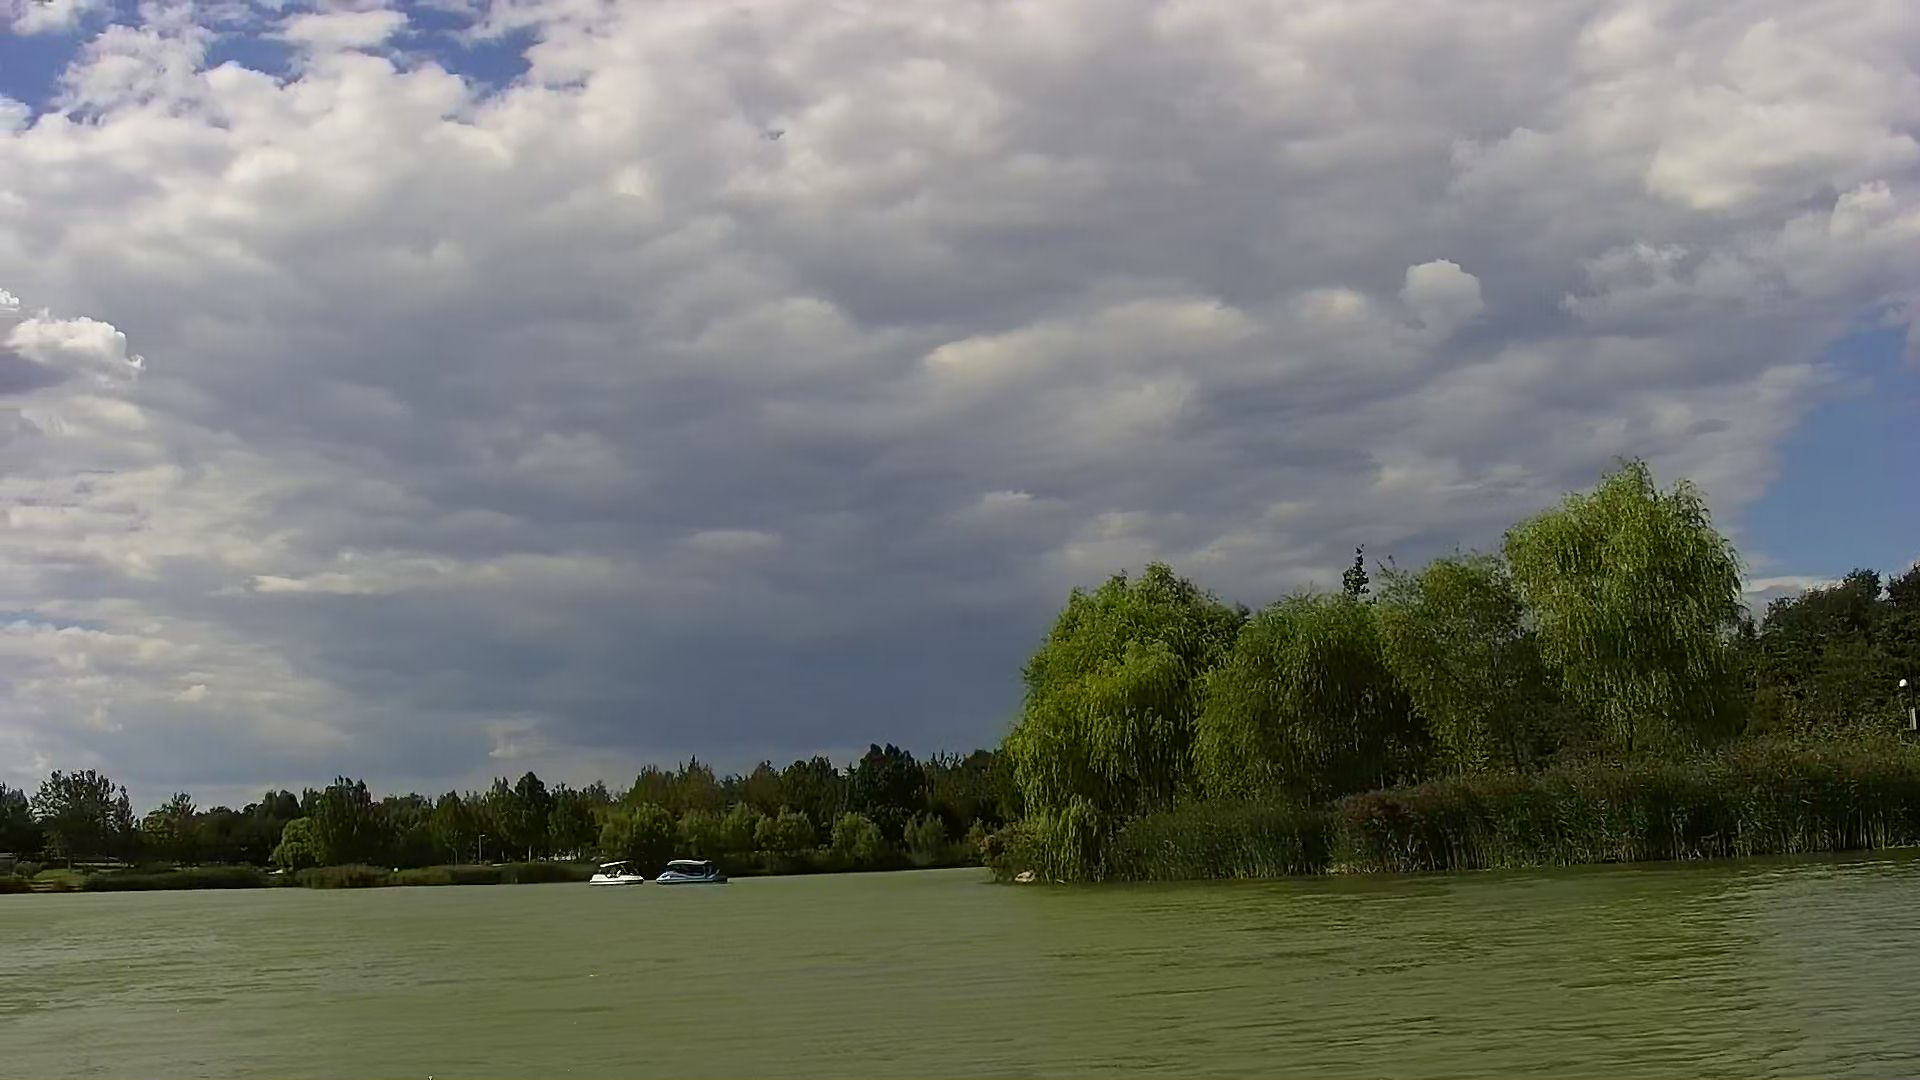boat: (654, 855, 731, 887), (585, 855, 644, 889)
rock: (1011, 869, 1044, 887)
